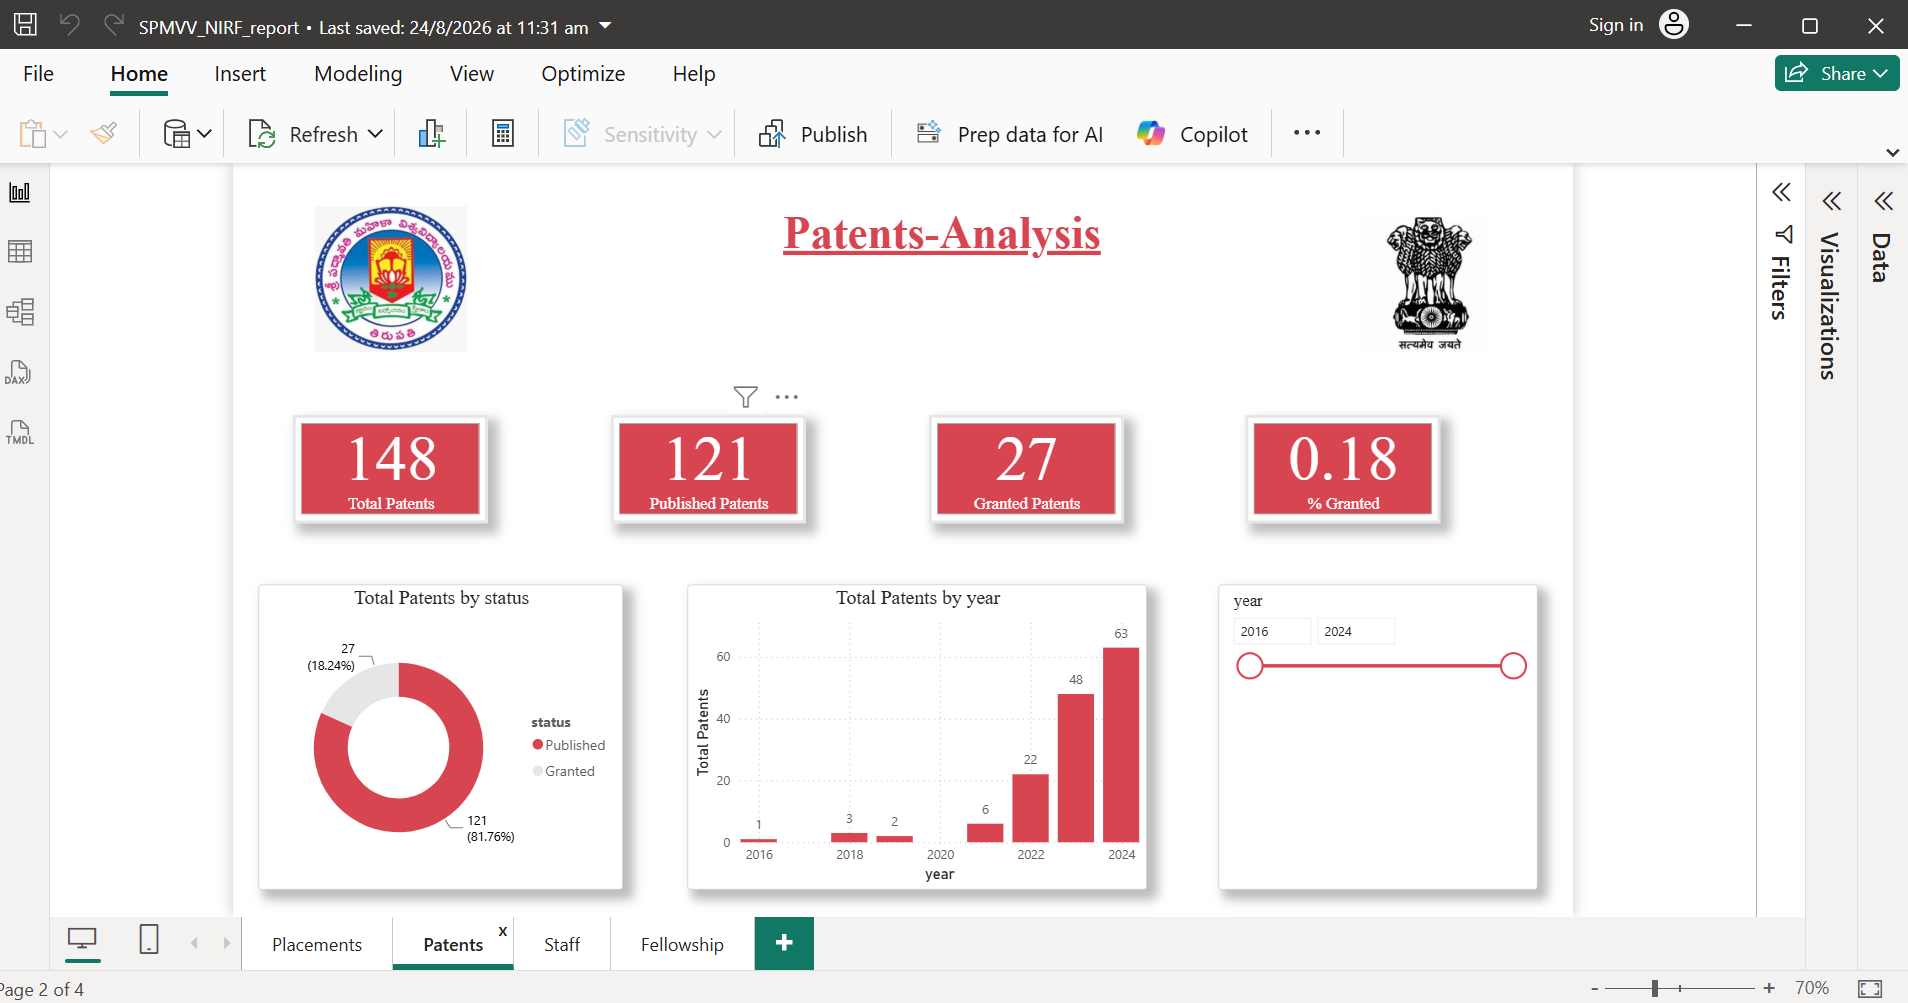

The page's visual inventory and layout, read from the dashboard file:
{"tool":"powerbi","page":{"name":"Patents","canvas":[1280,720],"ordinal":1},"visuals":[{"type":"donutChart","fields":{"Category":["patents.status"],"Y":["patents.Total Patents"]},"box":[24.3,403.2,348.1,291.5],"z":0},{"type":"clusteredColumnChart","fields":{"Category":["patents.year"],"Y":["patents.Total Patents"]},"box":[434,403.2,438.8,291.5],"z":1000},{"type":"slicer","fields":{"Values":["patents.year"]},"box":[940.8,403.2,304.4,291.5],"z":2000},{"type":"textbox","box":[372.2,36.6,609.2,95.4],"z":3000},{"type":"image","box":[6.1,36.3,290.7,149.9],"z":4000},{"type":"image","box":[1061.5,36.3,153.8,150.6],"z":5000},{"type":"cardVisual","fields":{"Data":["patents.Total Patents"]},"box":[57.5,240.8,186.2,103],"z":6000},{"type":"cardVisual","fields":{"Data":["patents.% Granted"]},"box":[967.6,240.8,186.2,103],"z":7000},{"type":"cardVisual","fields":{"Data":["patents.Granted Patents"]},"box":[664.2,240.8,186.2,103],"z":8000},{"type":"cardVisual","fields":{"Data":["patents.Published Patents"]},"box":[360.9,240.8,186.2,103],"z":9000}]}

Visuals, with their boxes on the page's 1280x720 design canvas (x1, y1, x2, y2). These are canvas units, not pixel positions in the 1908x1003 screenshot, which may show the page scaled, cropped or inside an application window:
donutChart - patents.status x patents.Total Patents: 24 403 372 695
clusteredColumnChart - patents.year x patents.Total Patents: 434 403 873 695
slicer - patents.year: 941 403 1245 695
textbox: 372 37 981 132
image: 6 36 297 186
image: 1062 36 1215 187
cardVisual - patents.Total Patents: 58 241 244 344
cardVisual - patents.% Granted: 968 241 1154 344
cardVisual - patents.Granted Patents: 664 241 850 344
cardVisual - patents.Published Patents: 361 241 547 344
